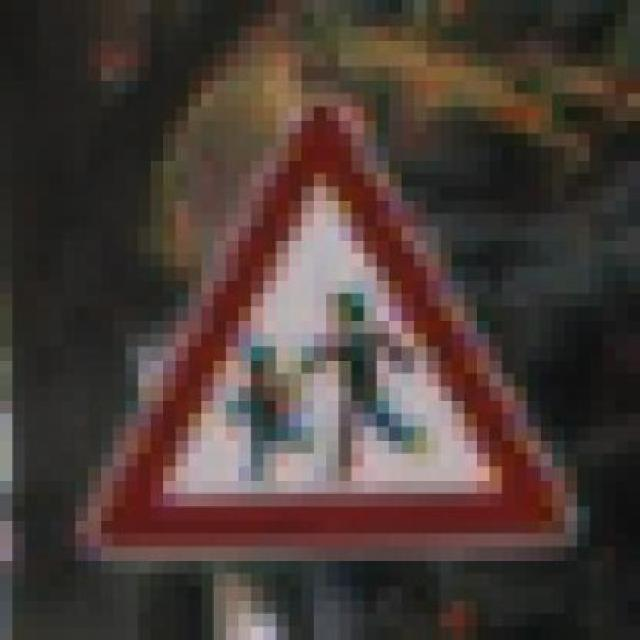Beware of children: (50, 80, 578, 560)
